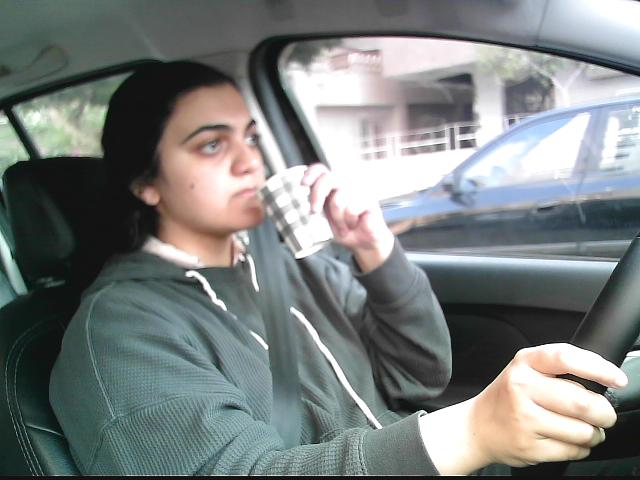Drinking: (248, 158, 343, 264)
